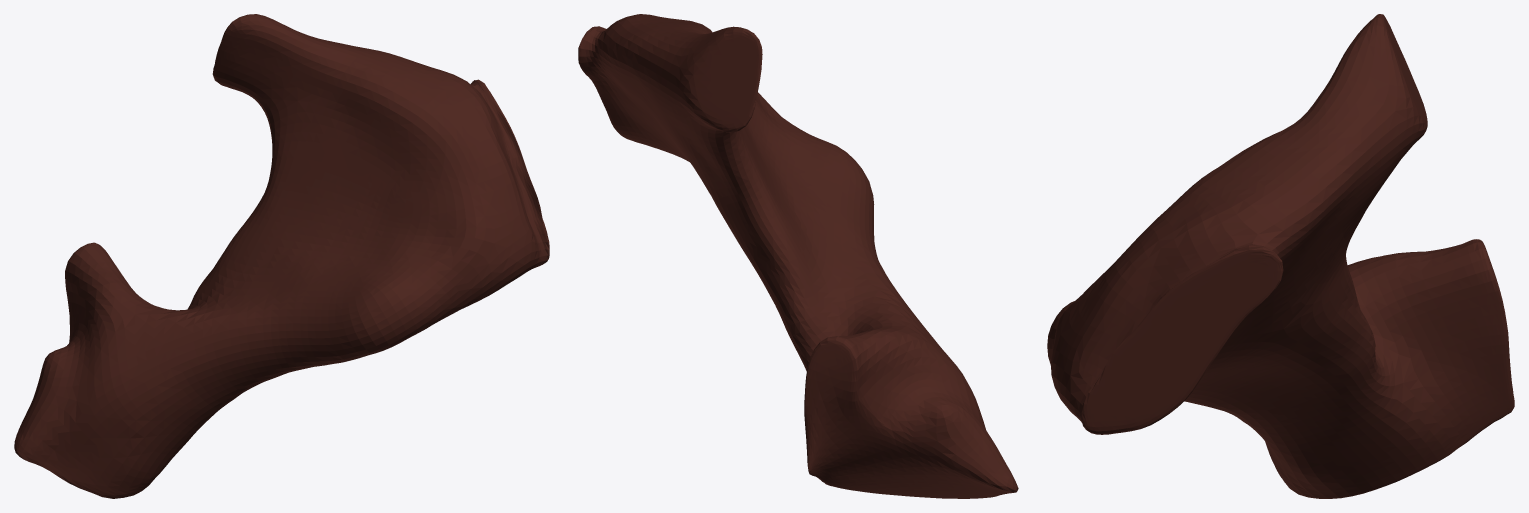
File: leftPelvis1Model.obj
3 views of the same model, side by side, from view 1: azimuth 30°, elevation 25°; view 2: azimuth 150°, elevation 25°; view 3: azimuth 270°, elevation 25° (orthographic). The views are drawn at different scales.
Visible parts, largest first — view 1: grp1; view 2: grp1; view 3: grp1.
Boxes of the visible parts, x1=… form: grp1: x1=14, y1=14, x2=549, y2=498; grp1: x1=578, y1=14, x2=1018, y2=498; grp1: x1=1047, y1=14, x2=1514, y2=498.
Bounding box in the file's own units: 87.34 × 80.61 × 60.52.
